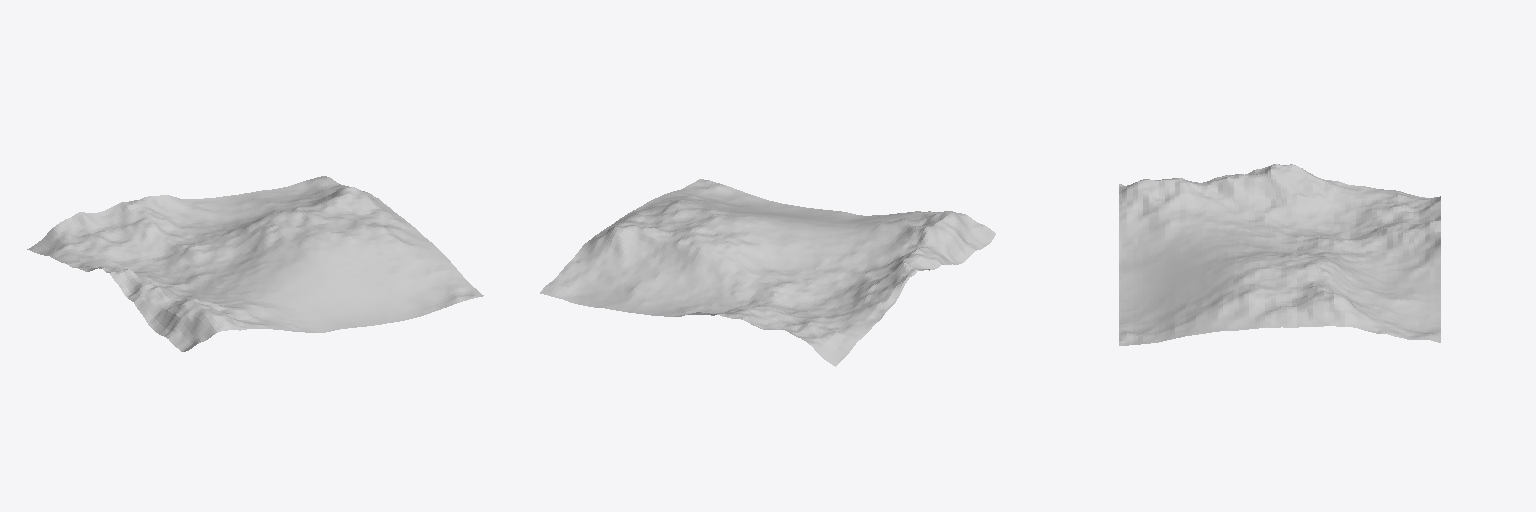
The model's file is ground6.obj.
3 renders of one model, left to right at view 1: azimuth 30°, elevation 25°; view 2: azimuth 150°, elevation 25°; view 3: azimuth 270°, elevation 25°, orthographic.
Parts seen in each view (by area): view 1: ground6; view 2: ground6; view 3: ground6.
Boxes of the visible parts, x1,y1,x2,y2 form: ground6: [27, 176, 483, 351]; ground6: [540, 179, 995, 366]; ground6: [1119, 164, 1440, 345].
Bounding box in the file's own units: 85.23 × 12.41 × 79.94.